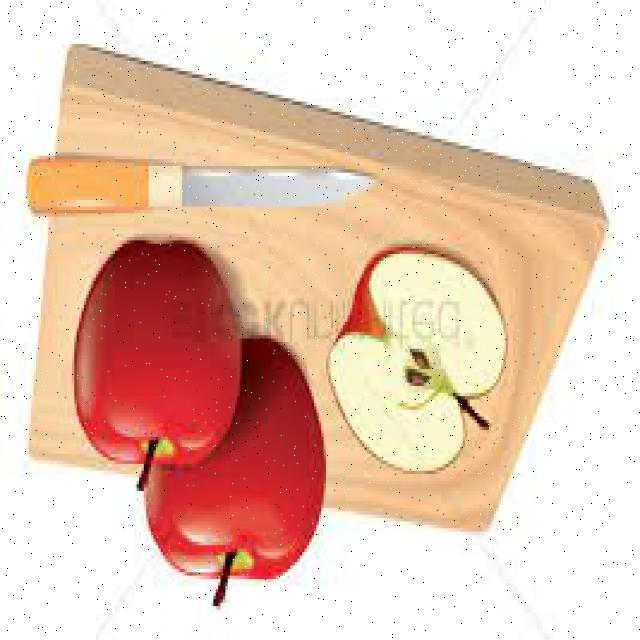Apple: (145, 335, 321, 586), (332, 255, 504, 489), (72, 242, 236, 465)
